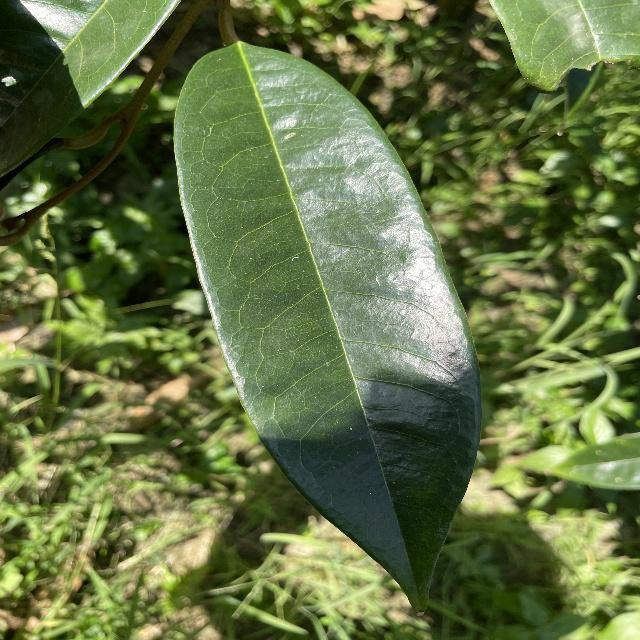No Disease: (165, 29, 498, 631)
